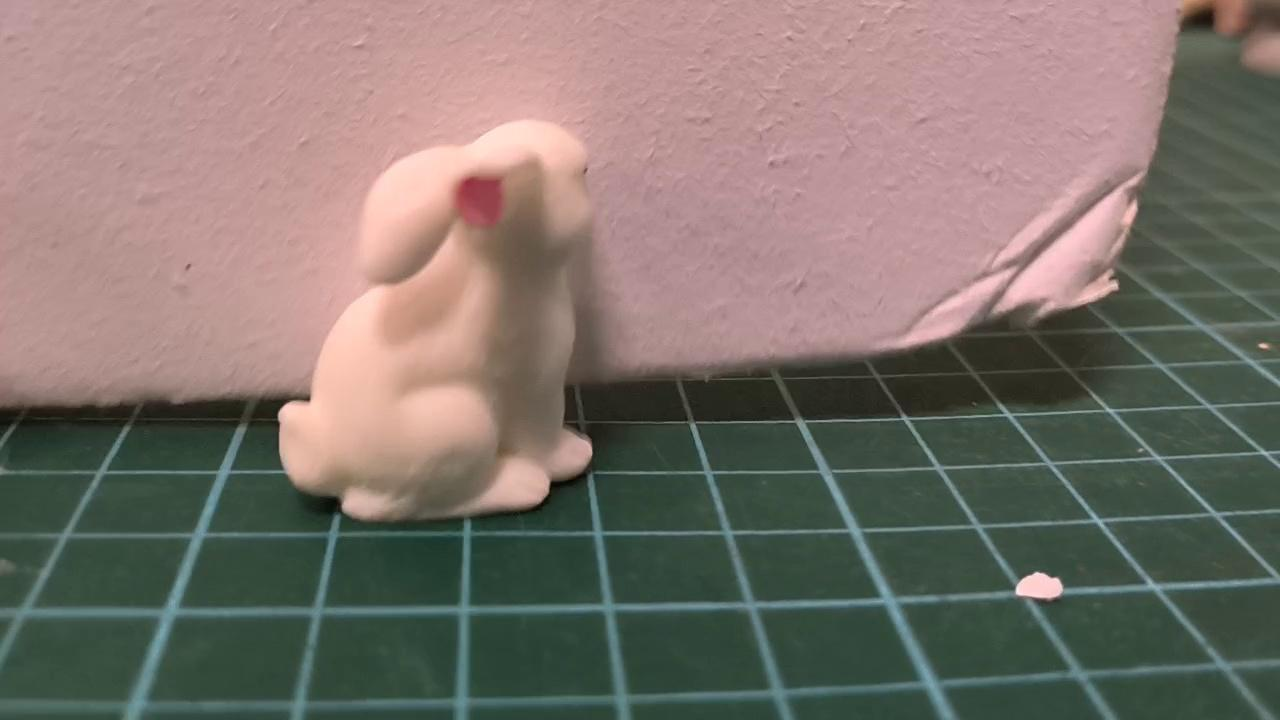pet: (274, 117, 598, 521)
